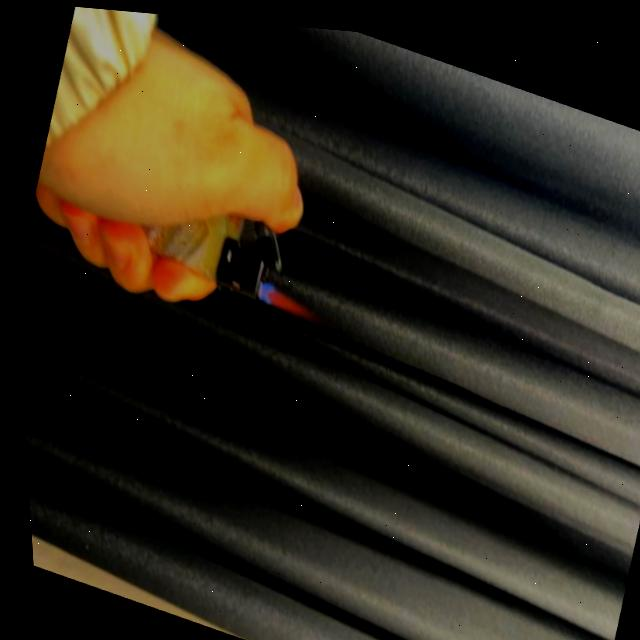Fire: (250, 274, 321, 321)
